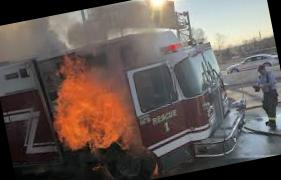Fire: (42, 54, 145, 158)
Smoke: (0, 0, 165, 84)
